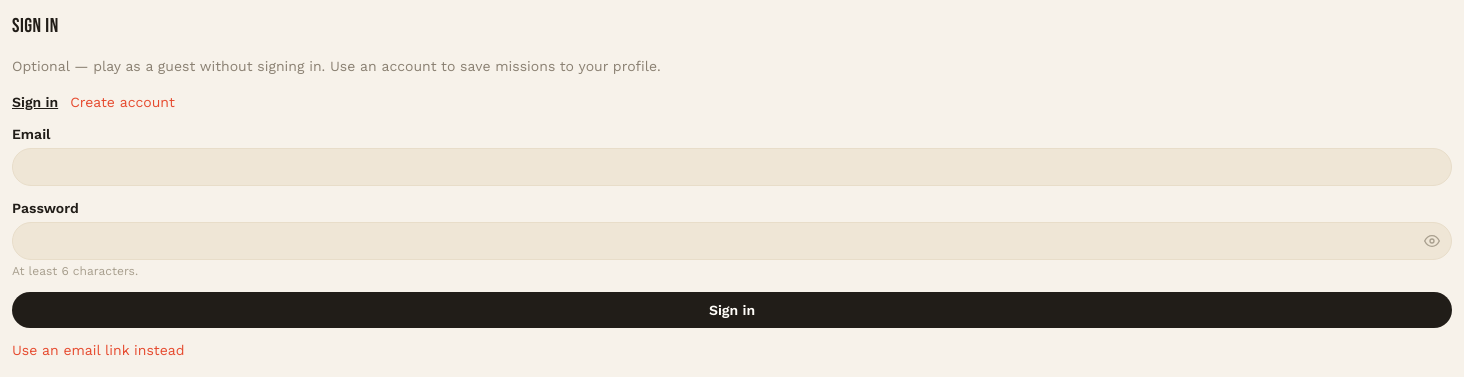
Scenario: AuthForm › shows magic-link submit after choosing the secondary email-link control
This screenshot has width=1464, height=377.
Click the button "Use an email link instead". click: (98, 350)
box: [12,340,184,360]
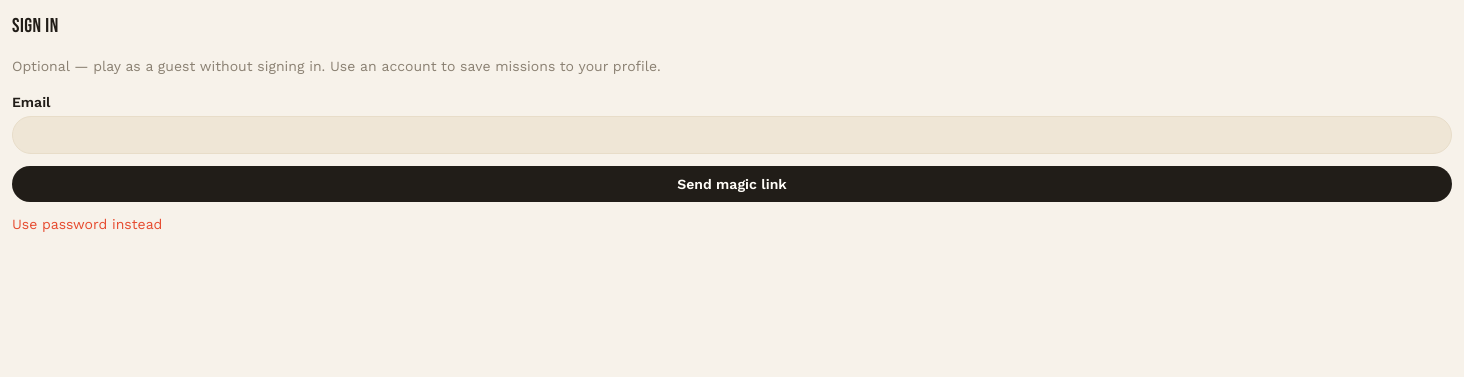
Expected: the button "Send magic link" is shown, [12,166,1452,202]
Expected: the button "Use password instead" is shown, [12,214,162,234]
